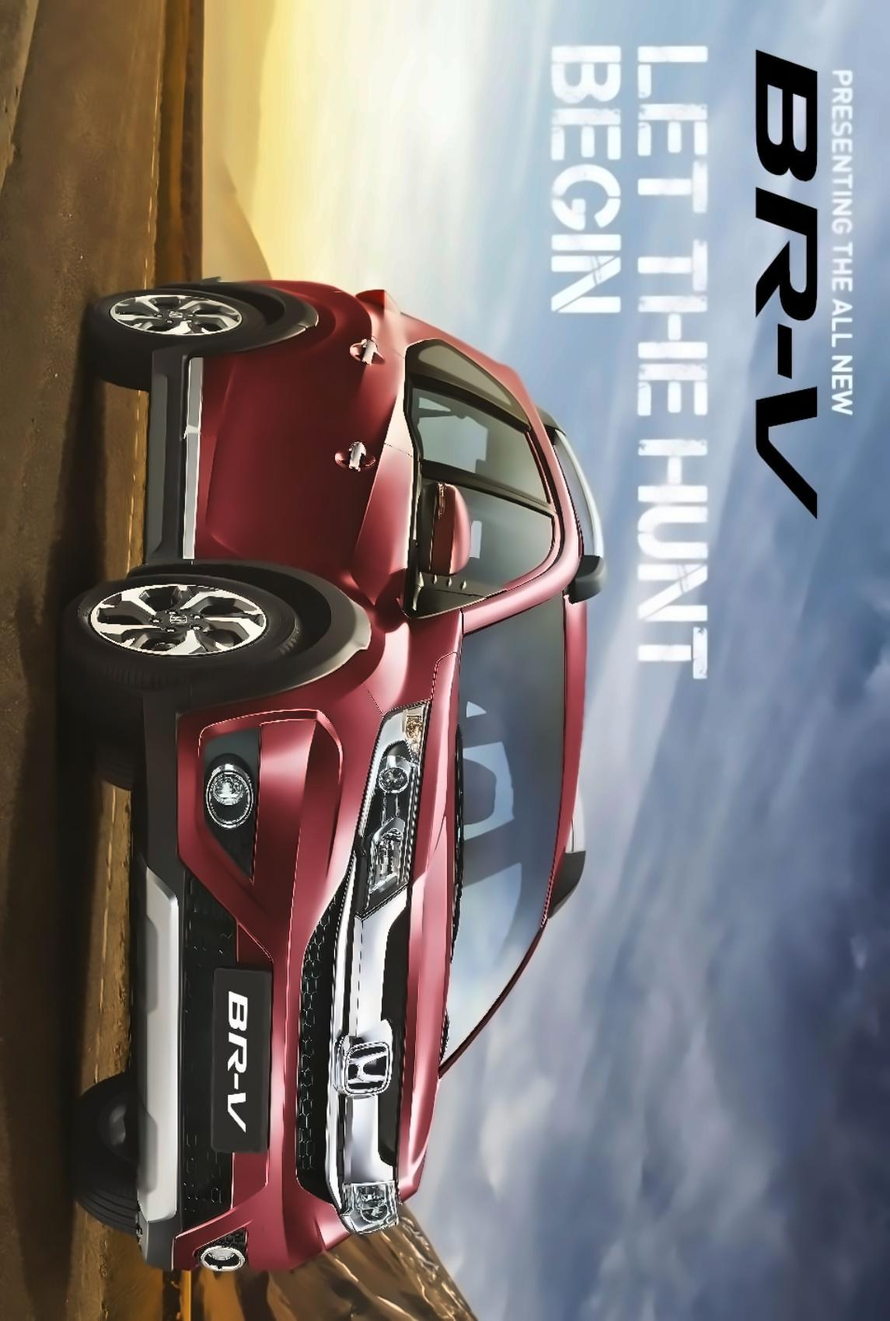Car hood: (408, 604, 462, 1223)
Driver-s door - -F-R-: (127, 435, 605, 636)
Fender - -F-R-: (127, 552, 469, 720)
Front bumper: (130, 678, 398, 1287)
Headlight - -L-: (336, 1166, 403, 1240)
Headlight - -R-: (341, 698, 428, 924)
Passenger-s door - -R-R-: (130, 313, 602, 505)
Side bumper - -R-: (116, 325, 241, 579)
Side mirror - -R-: (394, 472, 472, 606)
